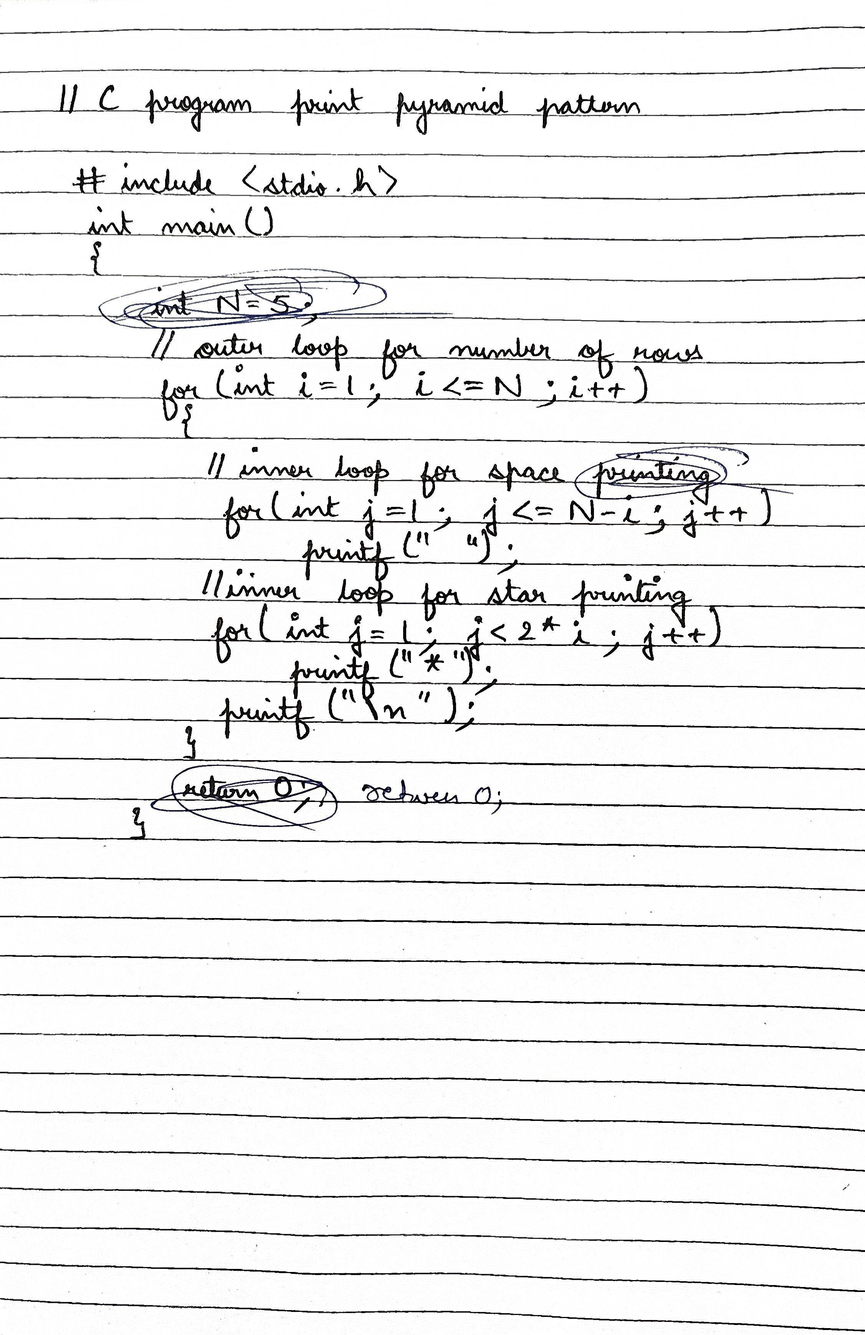cuttings: (95, 266, 390, 330), (573, 444, 795, 507), (148, 763, 340, 832)
